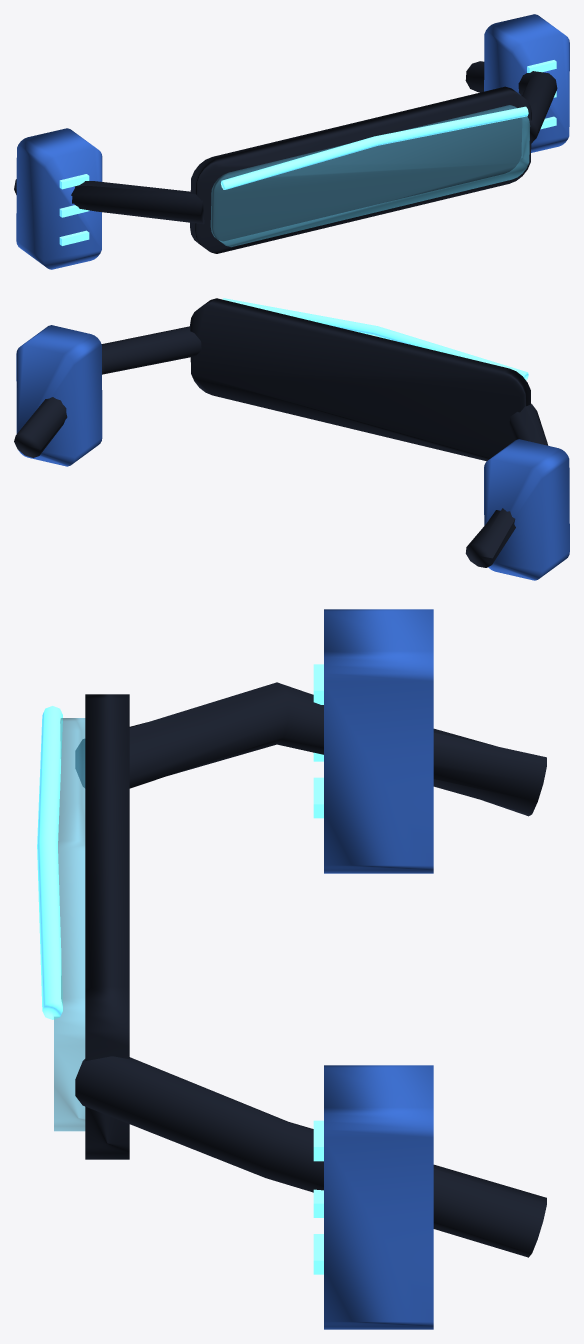
The model's file is nova_headpiece.glb.
3 renders of one model, top to bottom at view 1: azimuth 30°, elevation 25°; view 2: azimuth 150°, elevation 25°; view 3: azimuth 270°, elevation 25°, orthographic. The views are drawn at different scales.
Visible parts, largest first — view 1: nova_headpiece; view 2: nova_headpiece; view 3: nova_headpiece.
Boxes of the visible parts, box(x1,y1,x2,y2) form: nova_headpiece: box(14, 14, 569, 269); nova_headpiece: box(14, 298, 569, 580); nova_headpiece: box(37, 609, 546, 1329).
Size of the model in its own units: 0.466 by 0.1035 by 0.1955.
